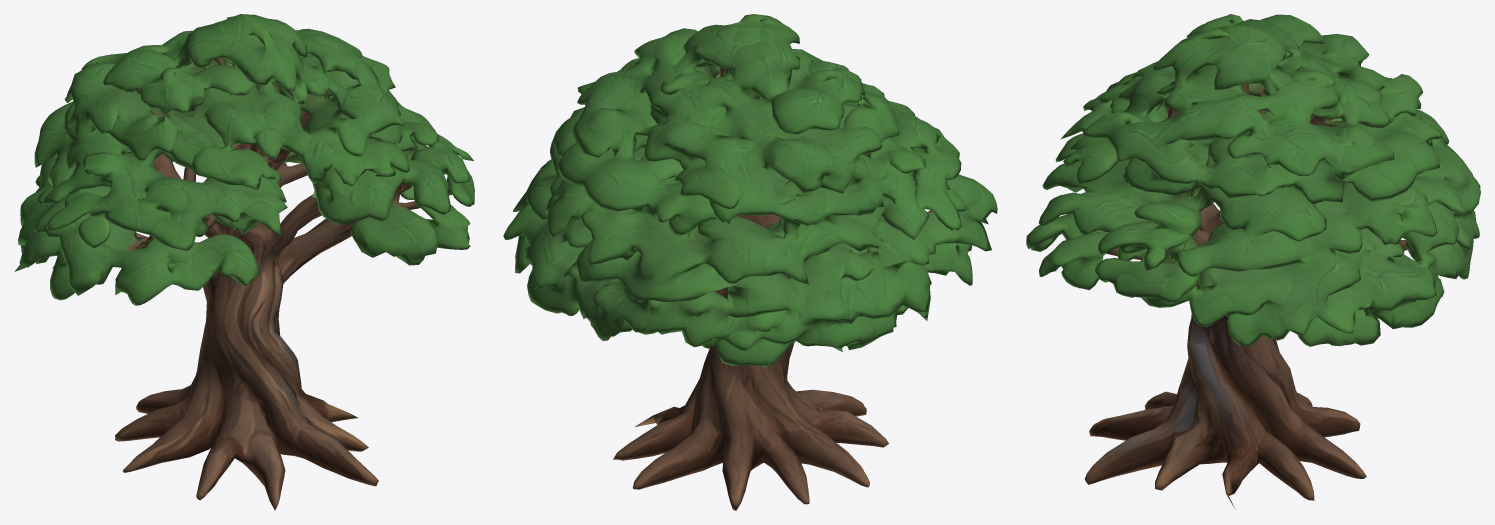
File: landmark_tree.glb
3 views of the same model, side by side, from view 1: azimuth 30°, elevation 25°; view 2: azimuth 150°, elevation 25°; view 3: azimuth 270°, elevation 25° (orthographic). The views are drawn at different scales.
Visible parts, largest first — view 1: model; view 2: model; view 3: model.
Boxes of the visible parts, x1=… form: model: x1=14, y1=14, x2=474, y2=510; model: x1=503, y1=14, x2=997, y2=510; model: x1=1026, y1=14, x2=1480, y2=509.
Bounding box in the file's own units: 1.87 × 1.88 × 1.79.
Materials: 1 (1 with a texture image).
